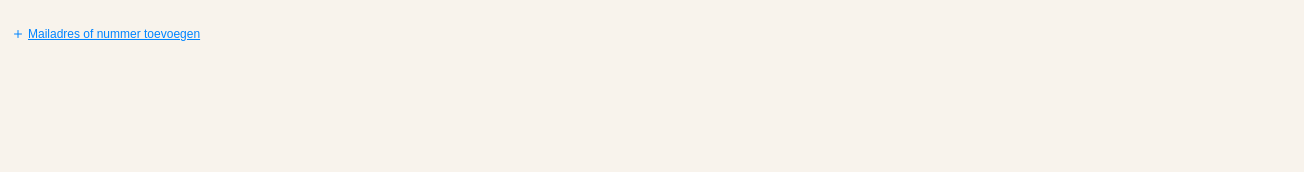
Scenario: KlantExtraGegevens › weigert een ongeldig adres zonder iets te bewaren
Click the button "Mailadres of nummer toevoegen".
click(106, 34)  # box [12, 12, 200, 56]
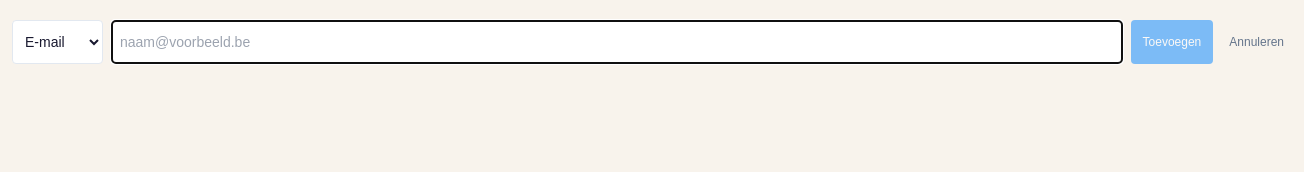
Type "geen-adres" into the field named "Extra mailadres".
click(617, 42); type("geen-adres")  # box [111, 20, 1123, 64]
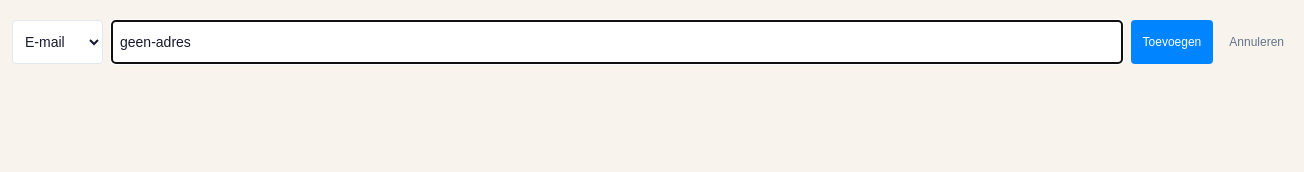
Click the button "Toevoegen".
click(1172, 42)  # box [1131, 20, 1213, 64]
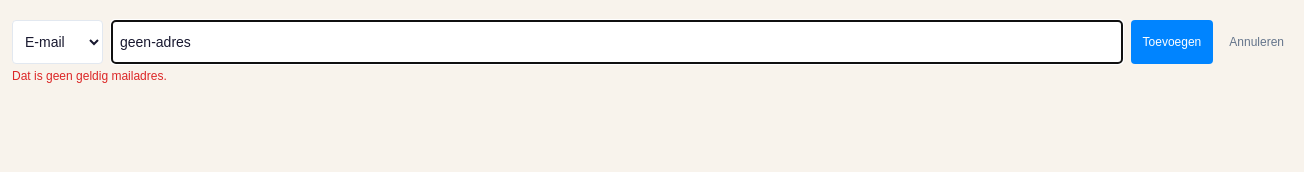
Expected: the text "Dat is geen geldig mailadres." is shown, [12, 69, 167, 83]
